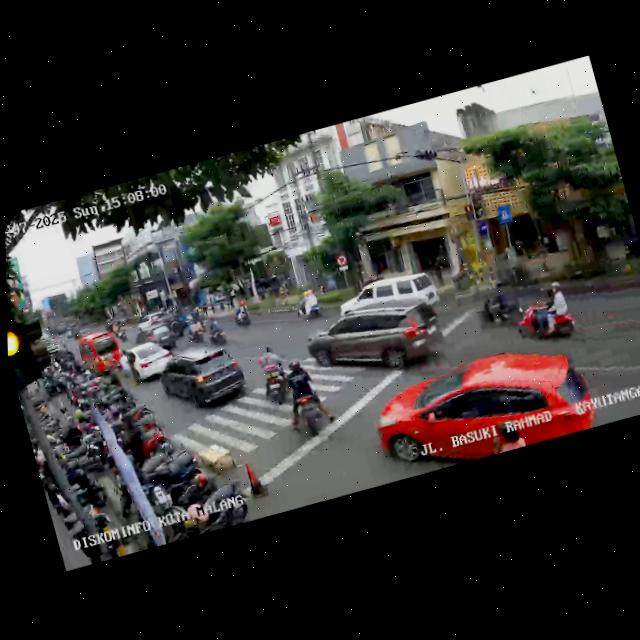car: (366, 330, 603, 482), (303, 285, 448, 392), (154, 337, 252, 419), (331, 263, 443, 330), (116, 336, 180, 388), (72, 324, 125, 381), (131, 321, 178, 355)
motorcycle: (507, 278, 582, 353), (273, 354, 336, 442), (467, 274, 527, 335), (253, 342, 295, 405), (294, 286, 325, 325), (204, 315, 228, 349), (183, 317, 207, 344), (233, 302, 255, 329)
person: (120, 347, 142, 386)
